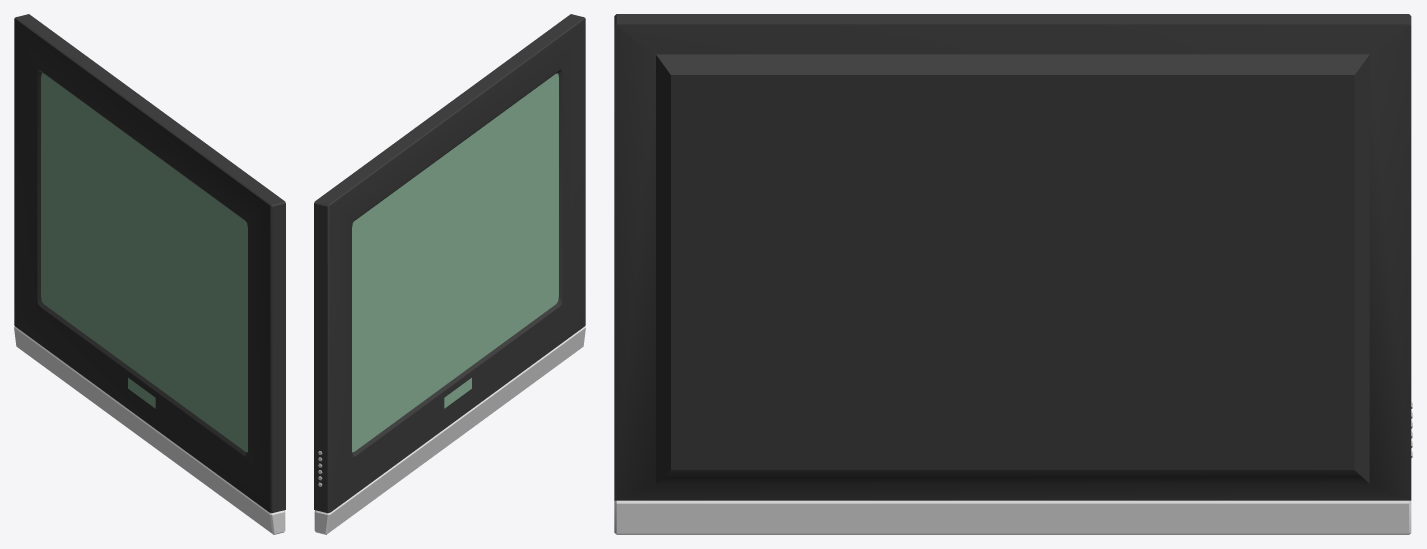
Rendered from YJ41CUNDYX02.FBX.
3 views of the same model, side by side, from view 1: azimuth 30°, elevation 25°; view 2: azimuth 150°, elevation 25°; view 3: azimuth 270°, elevation 25° (orthographic). The views are drawn at different scales.
Visible parts, largest first — view 1: YJ41CUNDYX02; view 2: YJ41CUNDYX02; view 3: YJ41CUNDYX02.
Boxes of the visible parts, bbox=[...] form: YJ41CUNDYX02: bbox=[14, 14, 285, 534]; YJ41CUNDYX02: bbox=[314, 14, 585, 534]; YJ41CUNDYX02: bbox=[614, 14, 1412, 534].
Size of the model in its own units: 7.16 by 99.79 by 70.56.
